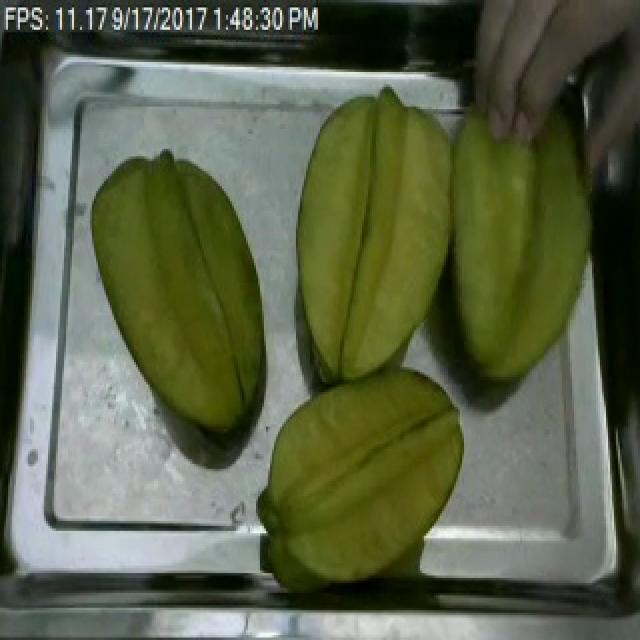fruit: (330, 70, 622, 400), (278, 77, 476, 399), (82, 146, 278, 444), (246, 360, 478, 598)
